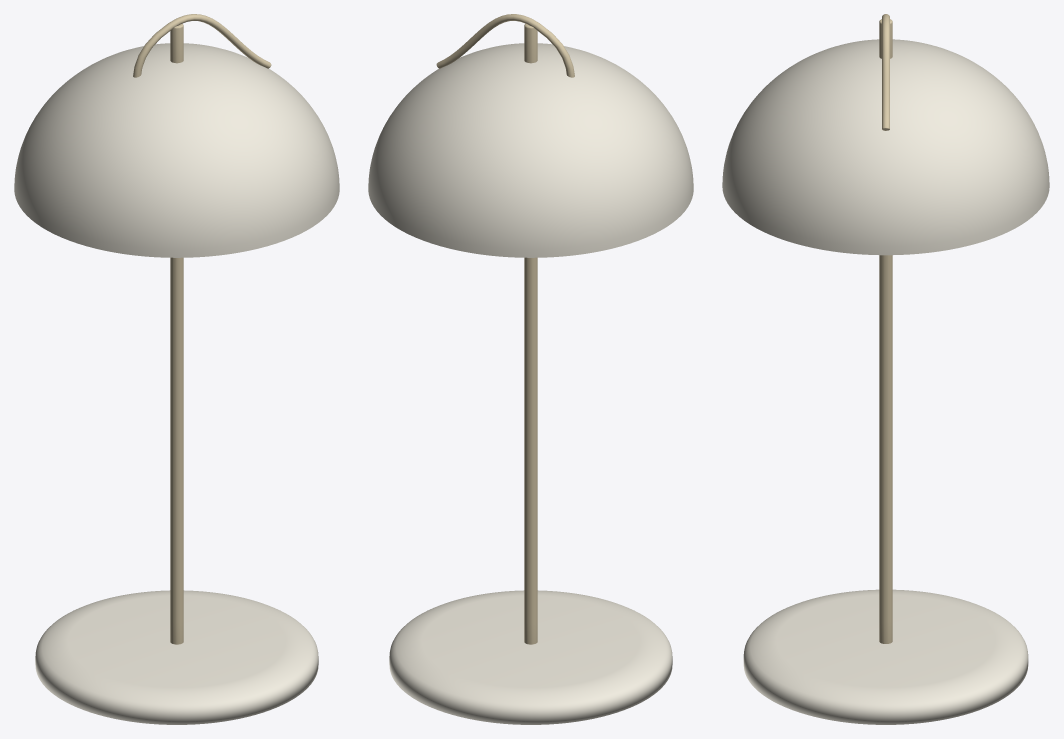
The model's file is lamp.glb.
The picture shows the model from 3 angles, left to right: view 1: azimuth 30°, elevation 25°; view 2: azimuth 150°, elevation 25°; view 3: azimuth 270°, elevation 25°; orthographic projection.
Visible parts, largest first — view 1: Lamp_Right_Dome, Lamp_Right_Base, Lamp_Right_Stem, Lamp_Right_Arch; view 2: Lamp_Right_Dome, Lamp_Right_Base, Lamp_Right_Stem, Lamp_Right_Arch; view 3: Lamp_Right_Dome, Lamp_Right_Base, Lamp_Right_Stem, Lamp_Right_Arch.
Part boxes in pixels (bbox=[...]): Lamp_Right_Dome: bbox=[14, 43, 339, 257]; Lamp_Right_Base: bbox=[35, 590, 318, 724]; Lamp_Right_Stem: bbox=[170, 23, 183, 644]; Lamp_Right_Arch: bbox=[133, 14, 271, 77]; Lamp_Right_Dome: bbox=[368, 43, 693, 257]; Lamp_Right_Base: bbox=[389, 590, 672, 724]; Lamp_Right_Stem: bbox=[524, 23, 537, 644]; Lamp_Right_Arch: bbox=[436, 14, 574, 77]; Lamp_Right_Dome: bbox=[722, 39, 1049, 255]; Lamp_Right_Base: bbox=[743, 589, 1028, 724]; Lamp_Right_Stem: bbox=[879, 19, 892, 643]; Lamp_Right_Arch: bbox=[882, 14, 889, 130].
Bounding box in the file's own units: 0.23 × 0.5052 × 0.23.
